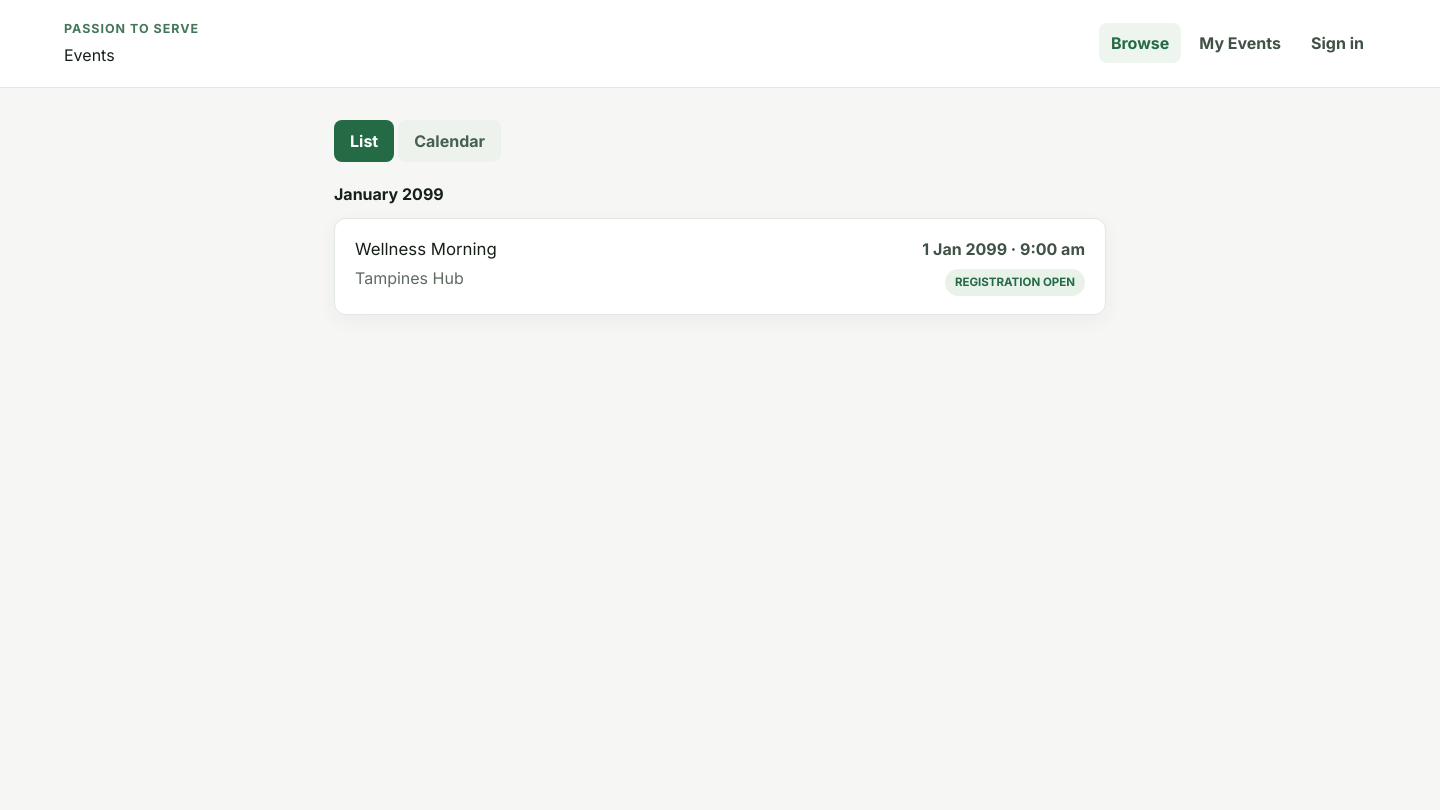
Public RSVP identity (TICKET-12 / TICKET-15) › stores the backend's canonical participant identity, not the raw form input
Expected: the heading "Wellness Morning" is shown, left=355, top=237, right=497, bottom=262
Click the link "Wellness Morning".
click(426, 249)  # box left=334, top=218, right=1106, bottom=315
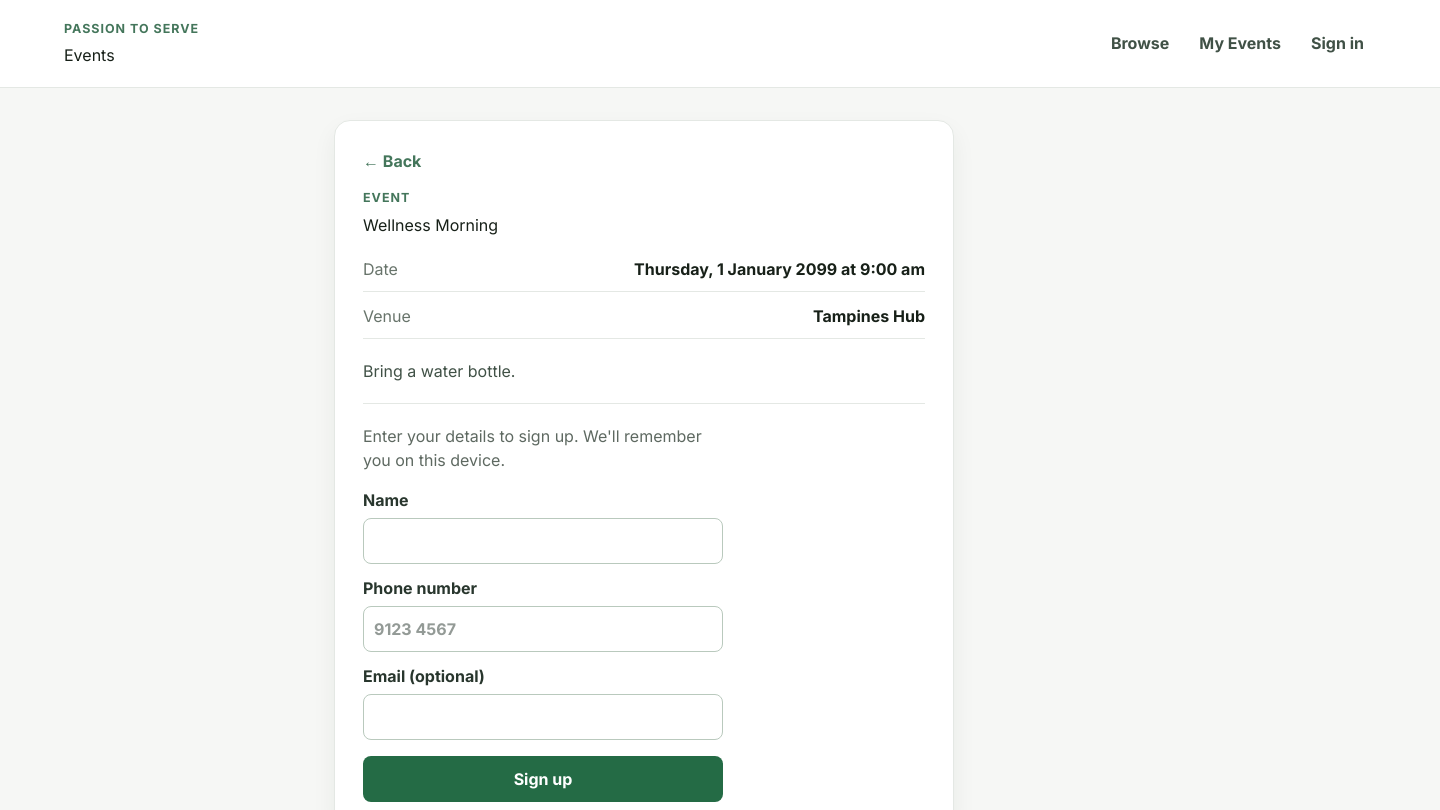
Expected: the text "Bring a water bottle." is shown, left=363, top=361, right=516, bottom=381
Type "Typo'd Alice" into the field labelled "Name".
click(543, 541); type("Typo'd Alice")  # box left=363, top=518, right=723, bottom=564
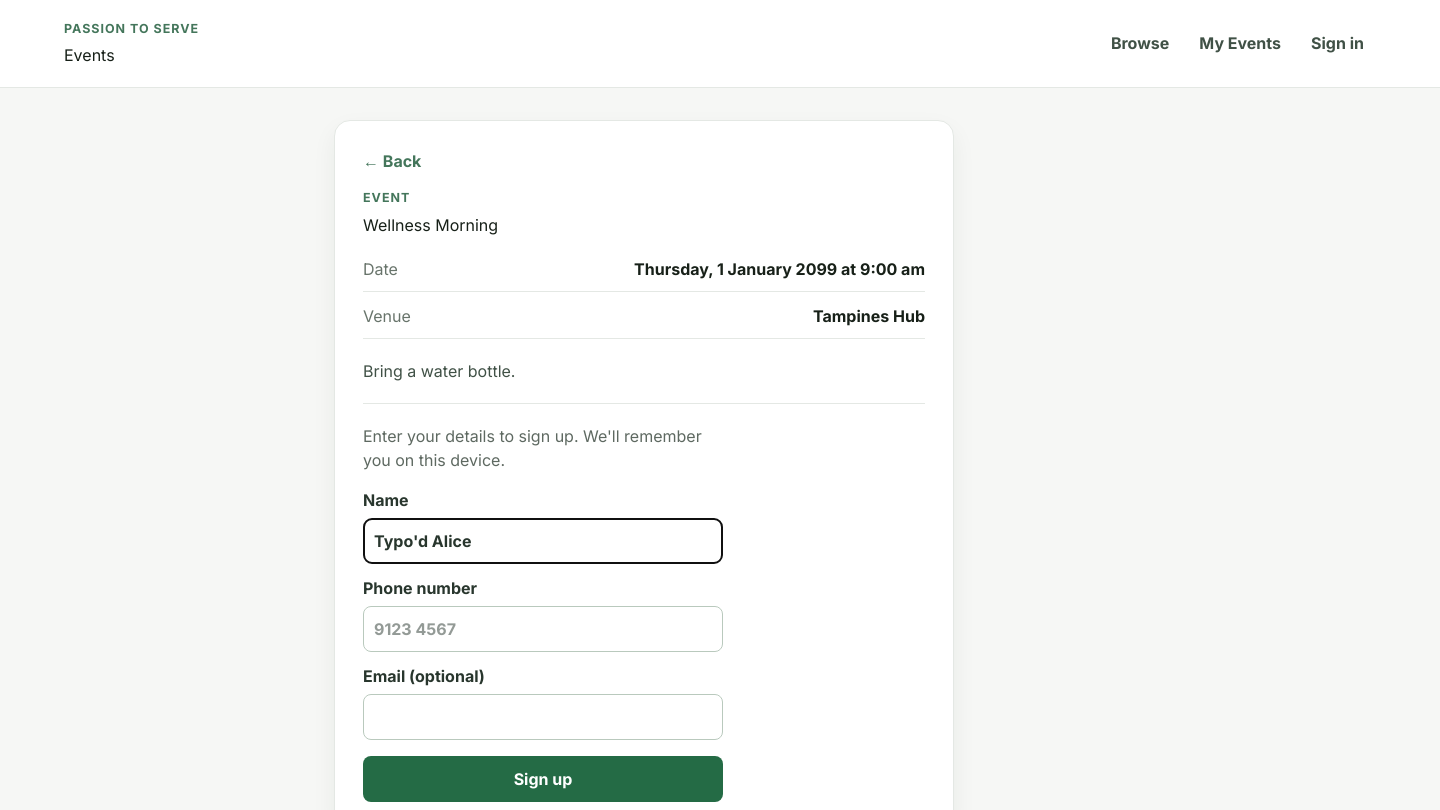
Type "+6591234567" into the field labelled "Phone number".
click(543, 629); type("+6591234567")  # box left=363, top=606, right=723, bottom=652
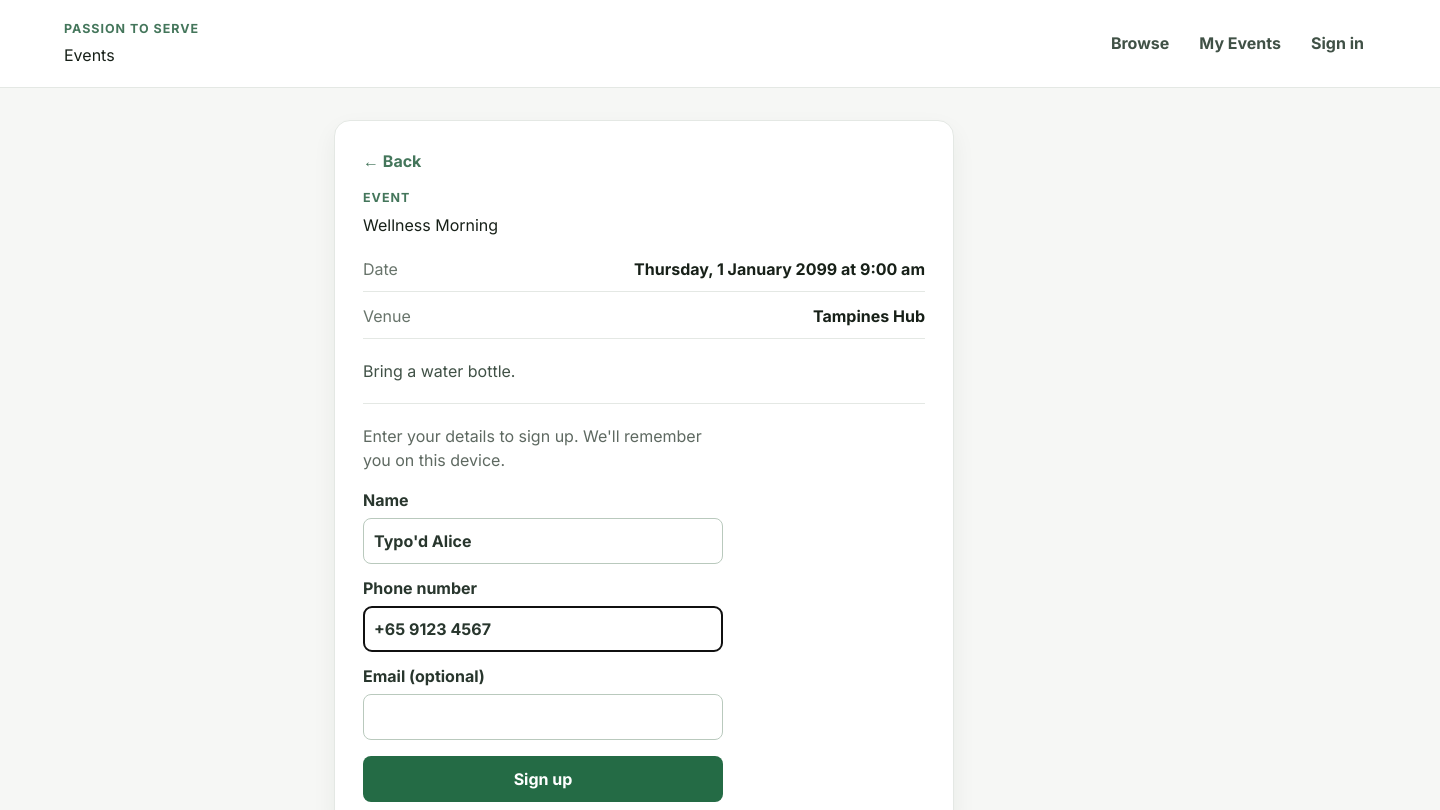
Click the button "Sign up".
click(543, 779)  # box left=363, top=756, right=723, bottom=802
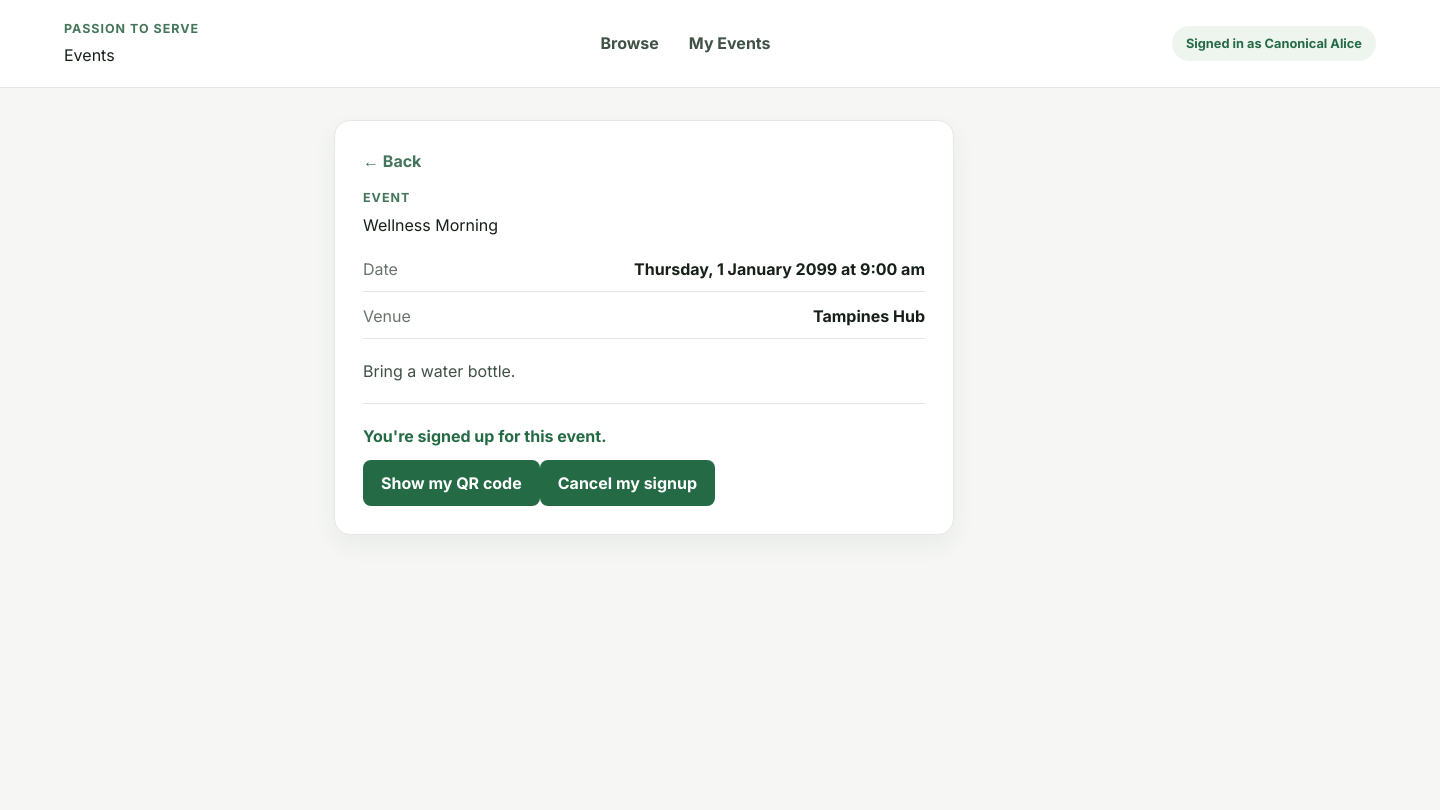
Expected: the text "You're signed up for this event." is shown, left=363, top=426, right=606, bottom=446
Expected: the button "Signed in as Canonical Alice" is shown, left=1172, top=26, right=1376, bottom=61
